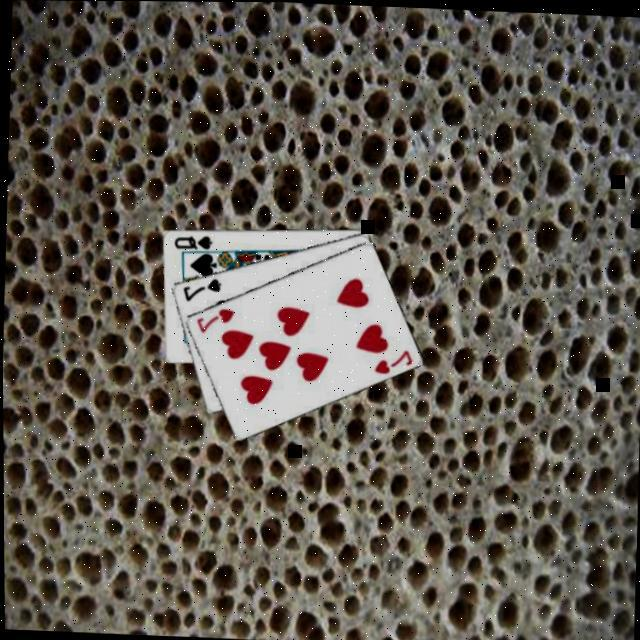7H: (368, 345, 412, 377), (190, 304, 233, 335)
7S: (176, 274, 221, 305)
QS: (168, 232, 212, 252)
